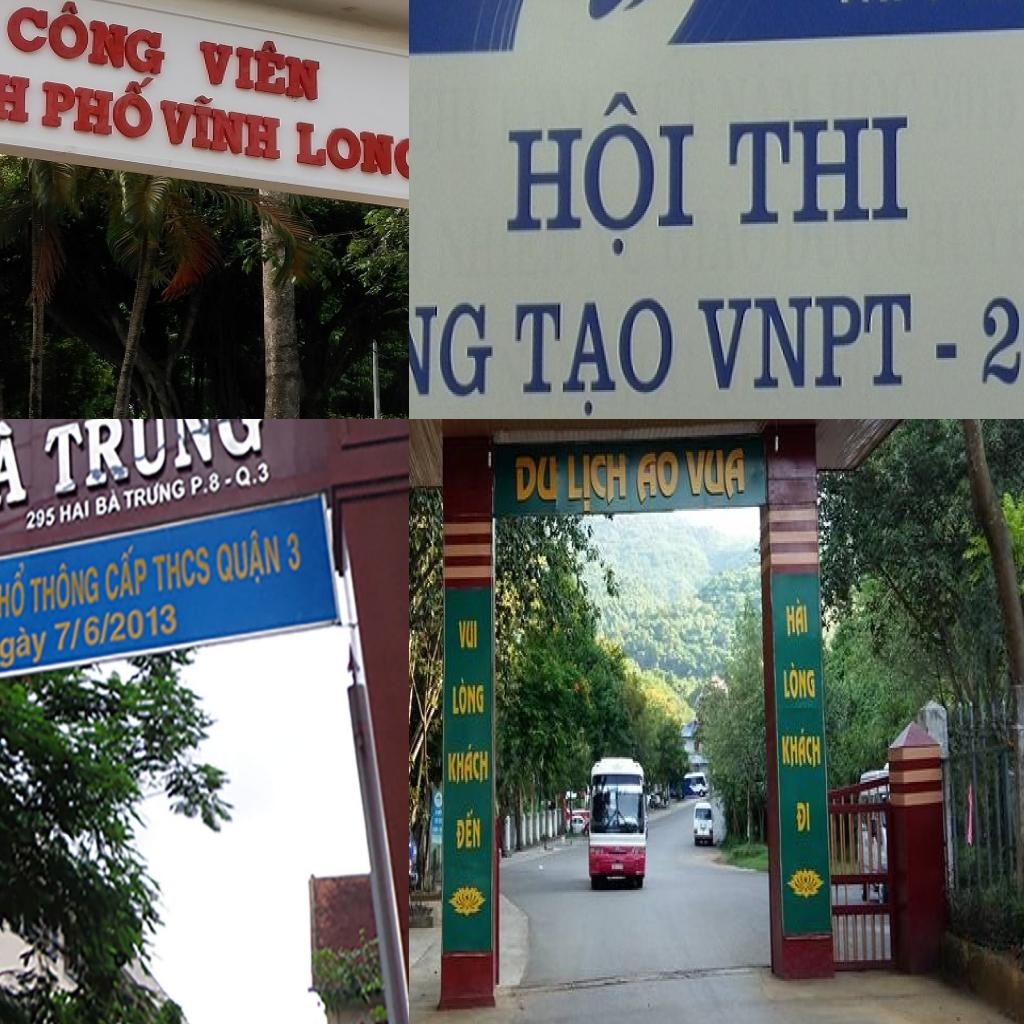text: (504, 86, 698, 266), (694, 290, 962, 394), (727, 111, 912, 230), (511, 292, 679, 419), (42, 419, 267, 503), (0, 0, 174, 78), (192, 26, 331, 113), (409, 273, 497, 403), (36, 60, 160, 144), (159, 87, 285, 165), (291, 113, 409, 188), (28, 550, 100, 618), (214, 522, 284, 591), (979, 290, 1024, 388), (566, 450, 628, 517), (684, 444, 747, 505), (150, 540, 213, 598), (0, 419, 31, 526), (102, 542, 148, 607), (635, 448, 681, 509), (0, 622, 49, 677), (122, 472, 188, 512), (514, 454, 560, 507), (447, 740, 491, 790), (780, 727, 823, 771), (0, 560, 27, 625), (782, 659, 818, 702), (452, 676, 486, 719), (233, 458, 272, 495), (784, 596, 810, 642), (456, 807, 482, 852), (189, 469, 223, 502), (24, 503, 58, 534), (94, 488, 125, 520), (58, 497, 91, 527), (285, 528, 304, 574), (457, 619, 479, 651), (222, 474, 234, 490)
